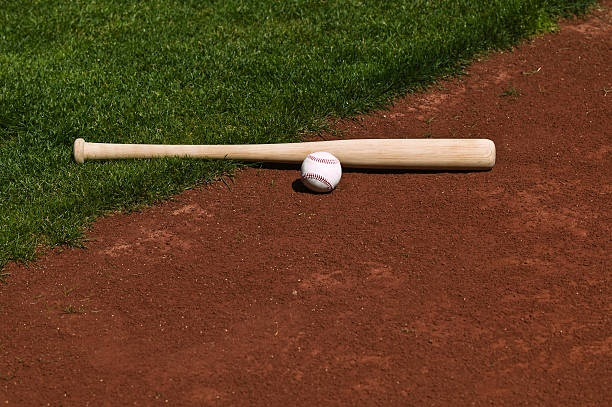bita: (69, 135, 500, 168)
